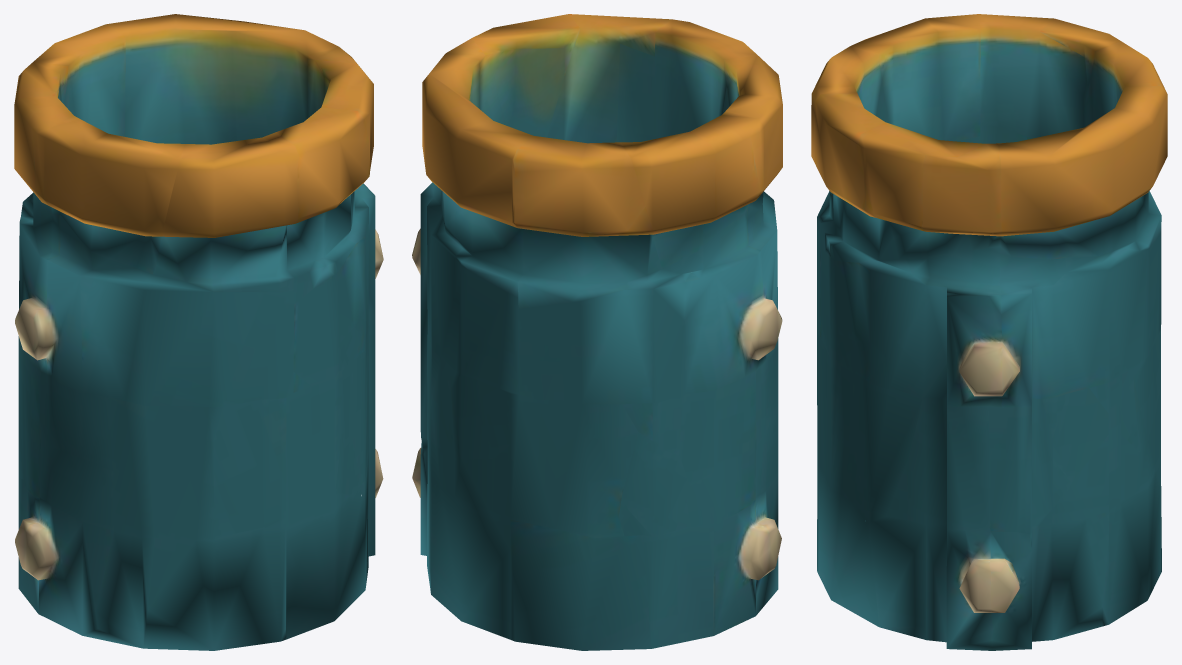
The model's file is m3d_conducto-g1.glb.
The picture shows the model from 3 angles, left to right: view 1: azimuth 30°, elevation 25°; view 2: azimuth 150°, elevation 25°; view 3: azimuth 270°, elevation 25°; orthographic projection.
Parts seen in each view (by area): view 1: tripo_node_93eebab4-dc39-4650-8fcc-95ec60dc603c; view 2: tripo_node_93eebab4-dc39-4650-8fcc-95ec60dc603c; view 3: tripo_node_93eebab4-dc39-4650-8fcc-95ec60dc603c.
Boxes of the visible parts, x1,y1,x2,y2 form: tripo_node_93eebab4-dc39-4650-8fcc-95ec60dc603c: (14,14,383,650); tripo_node_93eebab4-dc39-4650-8fcc-95ec60dc603c: (412,14,782,650); tripo_node_93eebab4-dc39-4650-8fcc-95ec60dc603c: (811,14,1167,650).
Size of the model in its own units: 0.7363 by 1 by 0.6641.
Materials: 1 (1 with a texture image).
